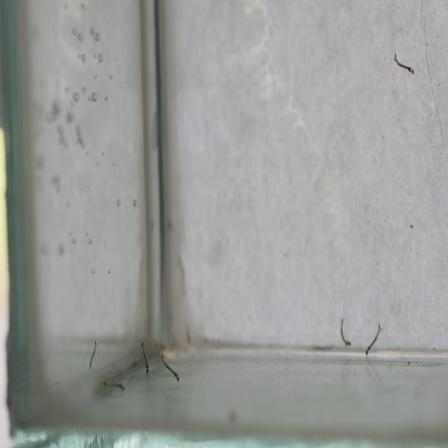Jentik-Nyamuk: (158, 352, 183, 385), (363, 322, 385, 357), (392, 51, 417, 79), (336, 313, 354, 351), (138, 339, 154, 375), (98, 377, 128, 396)
